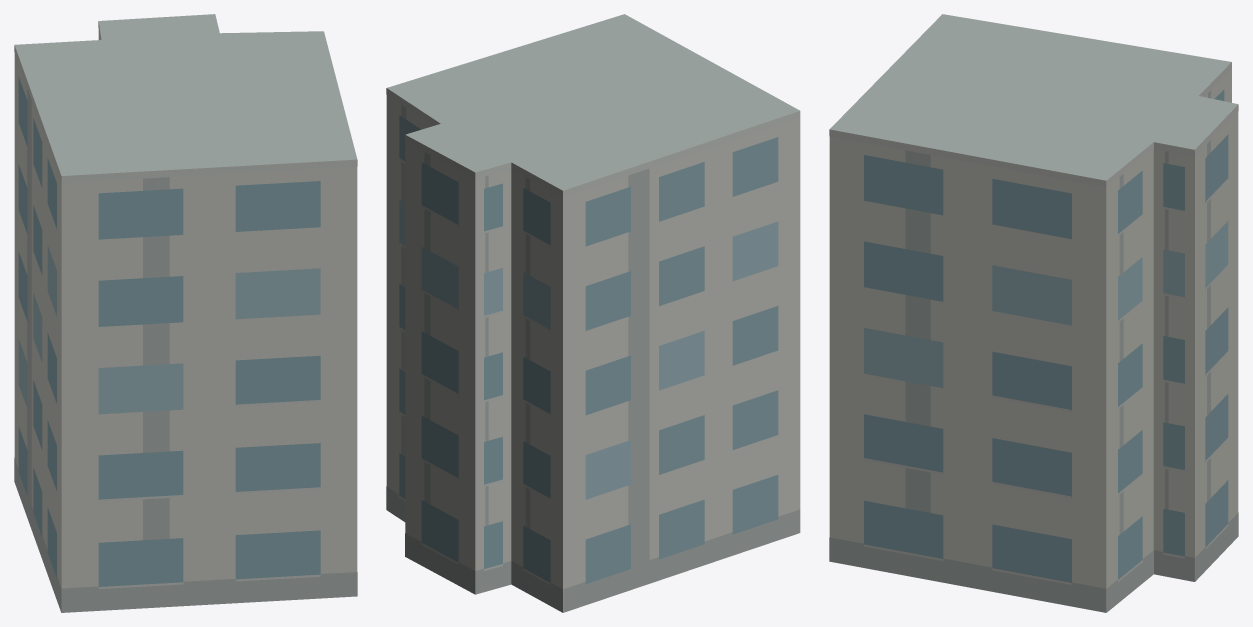
File: survey-upis-32510244.glb
3 renders of one model, left to right at view 1: azimuth 30°, elevation 25°; view 2: azimuth 150°, elevation 25°; view 3: azimuth 270°, elevation 25°, orthographic. The views are drawn at different scales.
Visible parts, largest first — view 1: survey-upis-32510244.tmp; view 2: survey-upis-32510244.tmp; view 3: survey-upis-32510244.tmp.
Boxes of the visible parts, box(x1,y1,x2,y2) form: survey-upis-32510244.tmp: box(14, 14, 357, 612); survey-upis-32510244.tmp: box(386, 14, 800, 612); survey-upis-32510244.tmp: box(829, 14, 1238, 612).
Bounding box in the file's own units: 12.63 × 15.25 × 13.09.
